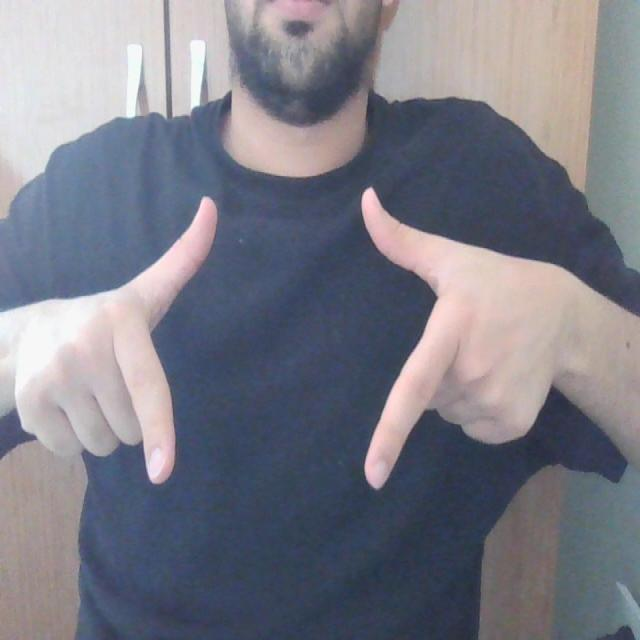Nerede: (107, 180, 465, 498)
